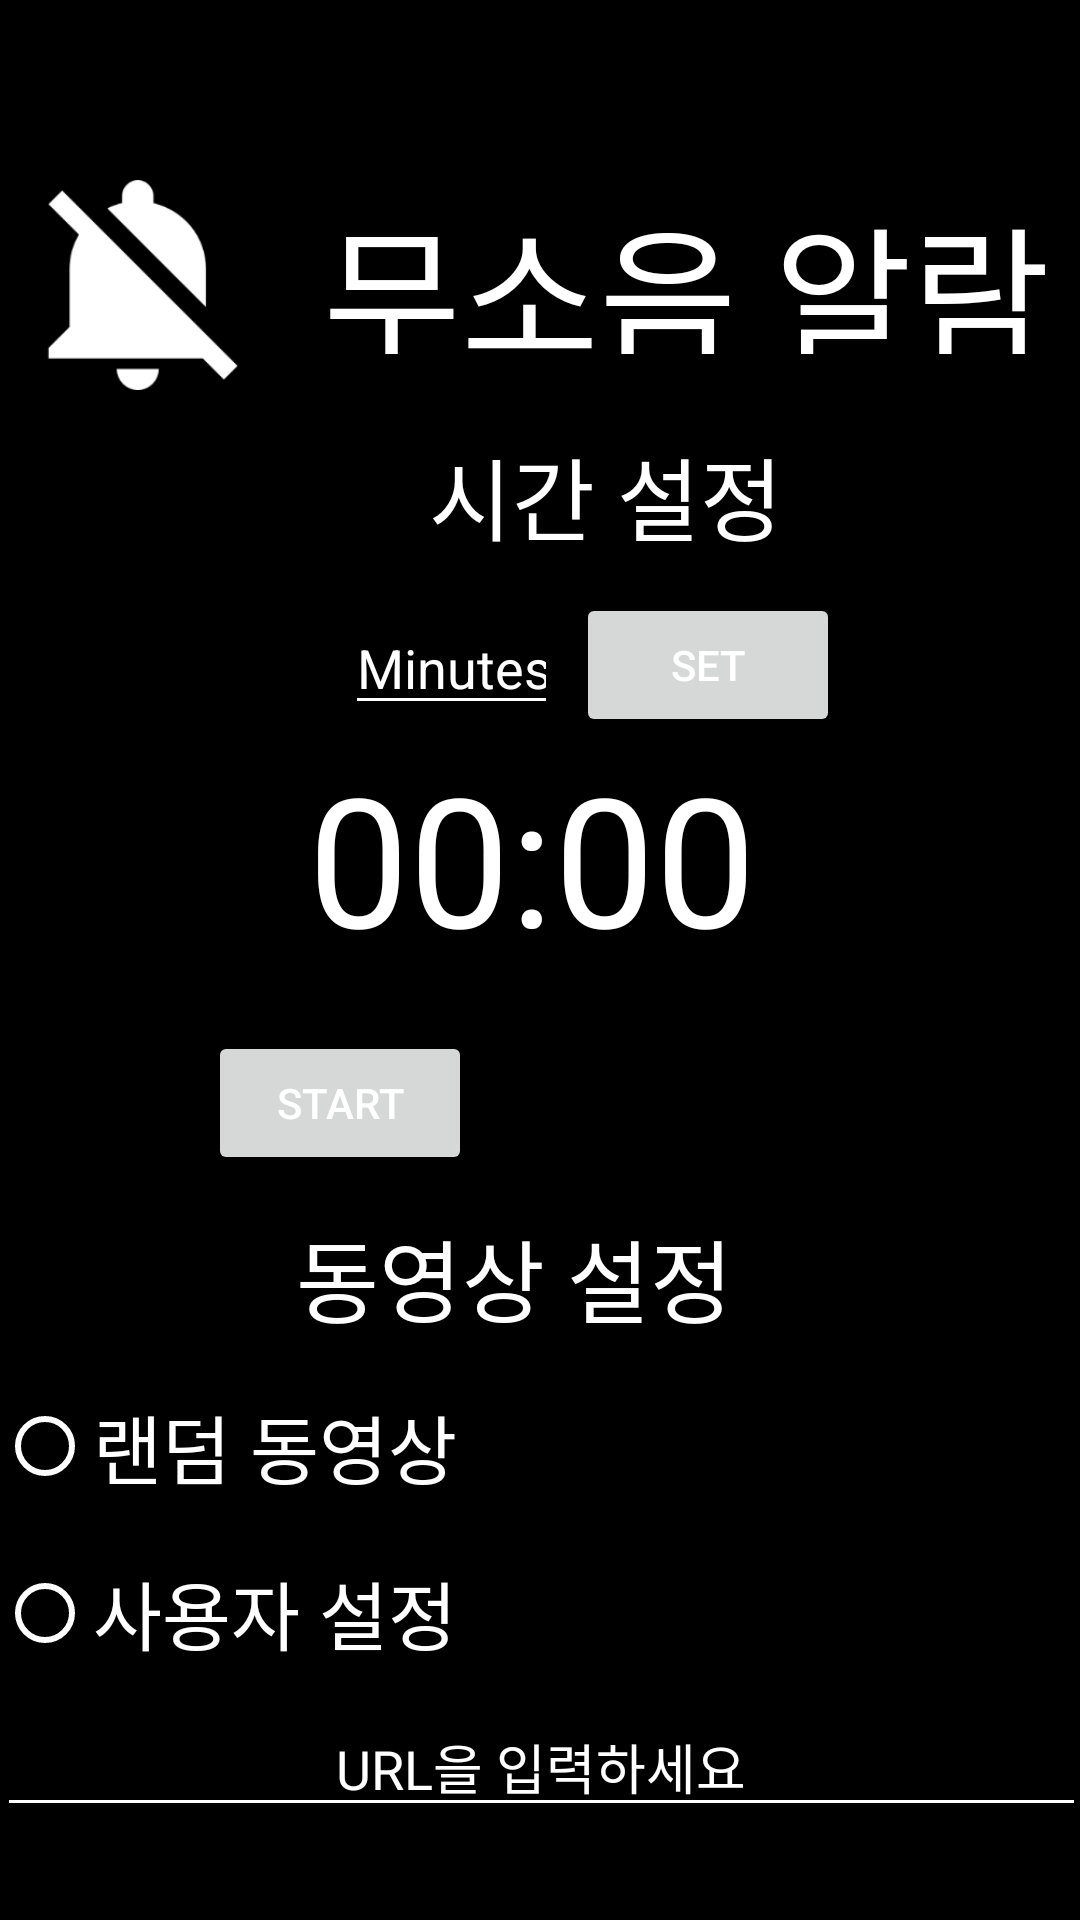

Named icons in this screenshot (1080*1920) and their bounding boxes, (x1, y1, x2, y2):
mutealarm: (48, 180, 238, 390)
